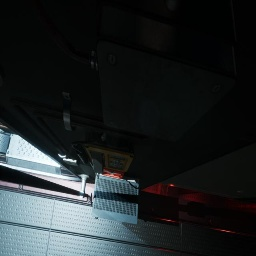EmergencyPhone ,: (71, 129, 134, 179)
FireAlarm ,: (101, 168, 125, 179)
